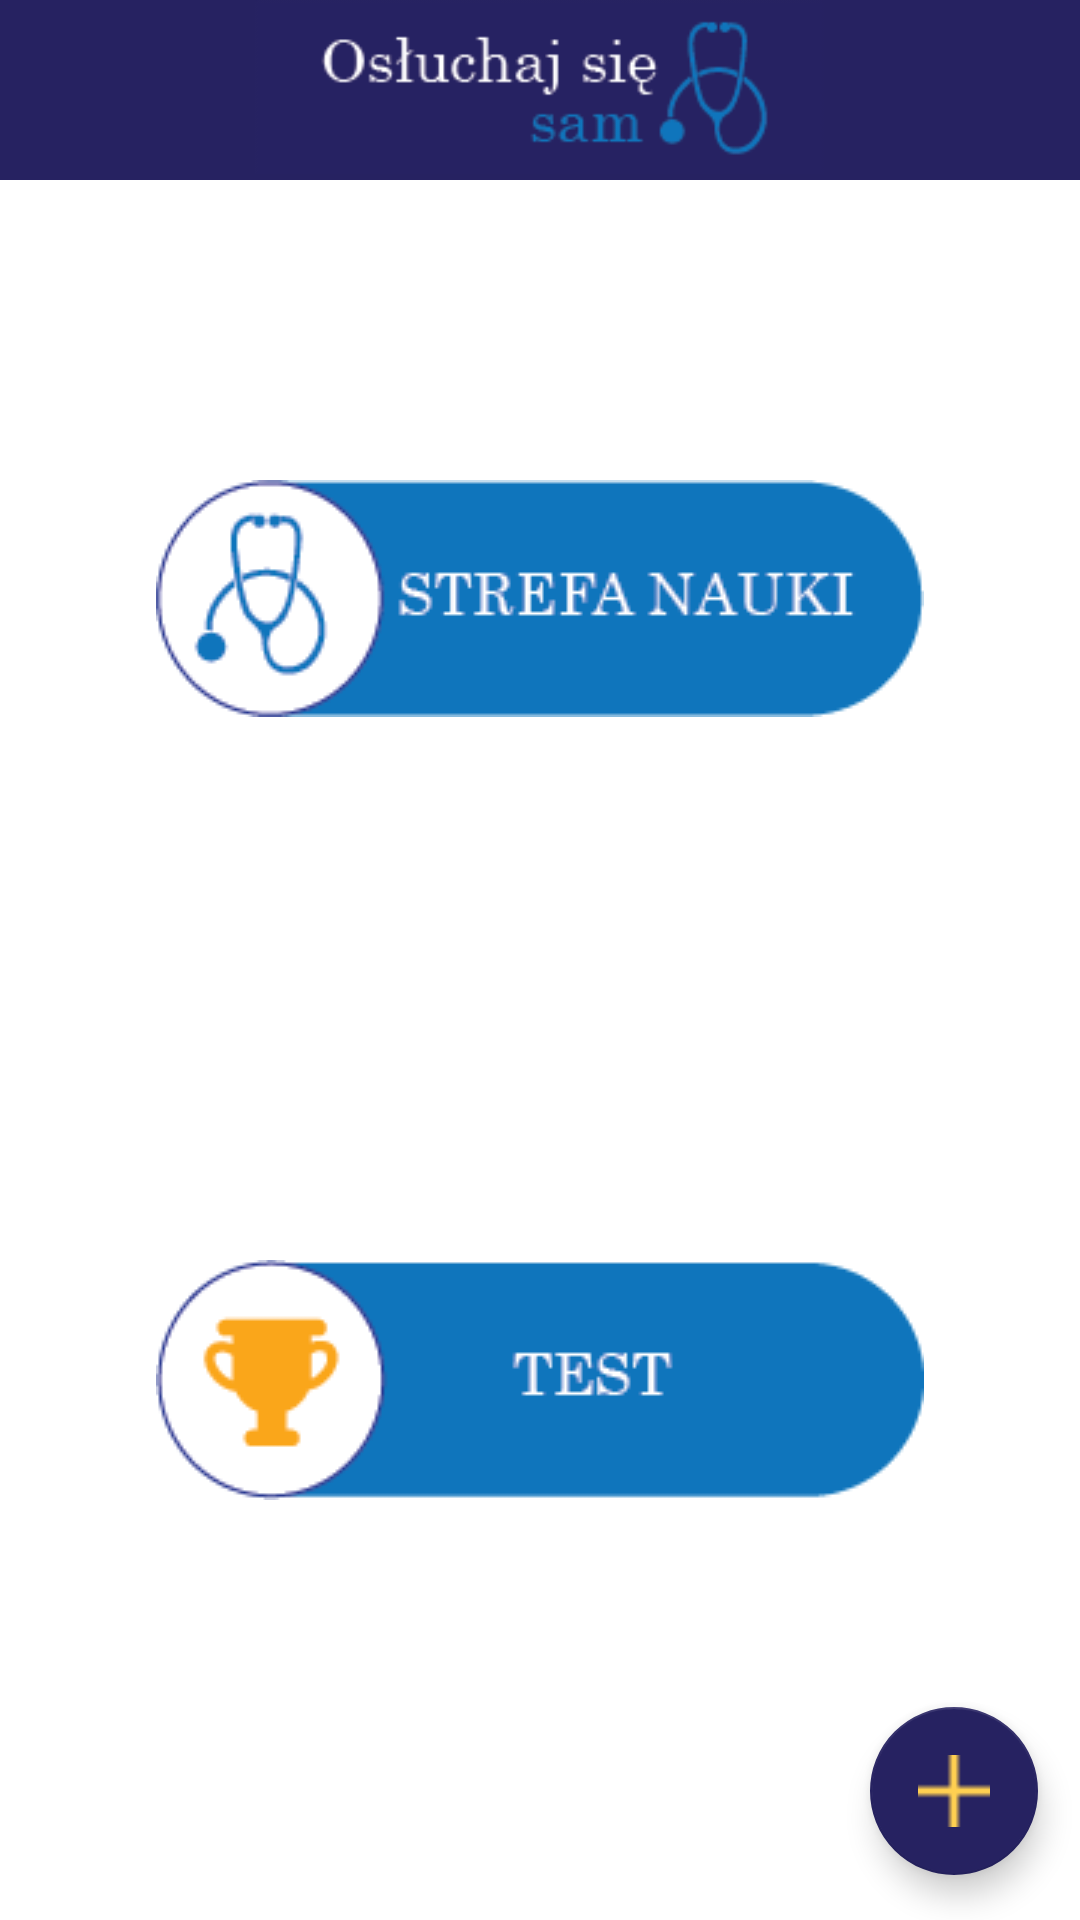

Locate icon controls on the screen. Image size 1080 x 1920, boxes as [x1,y1,x2,y2].
add: [870,1707,1038,1875]
